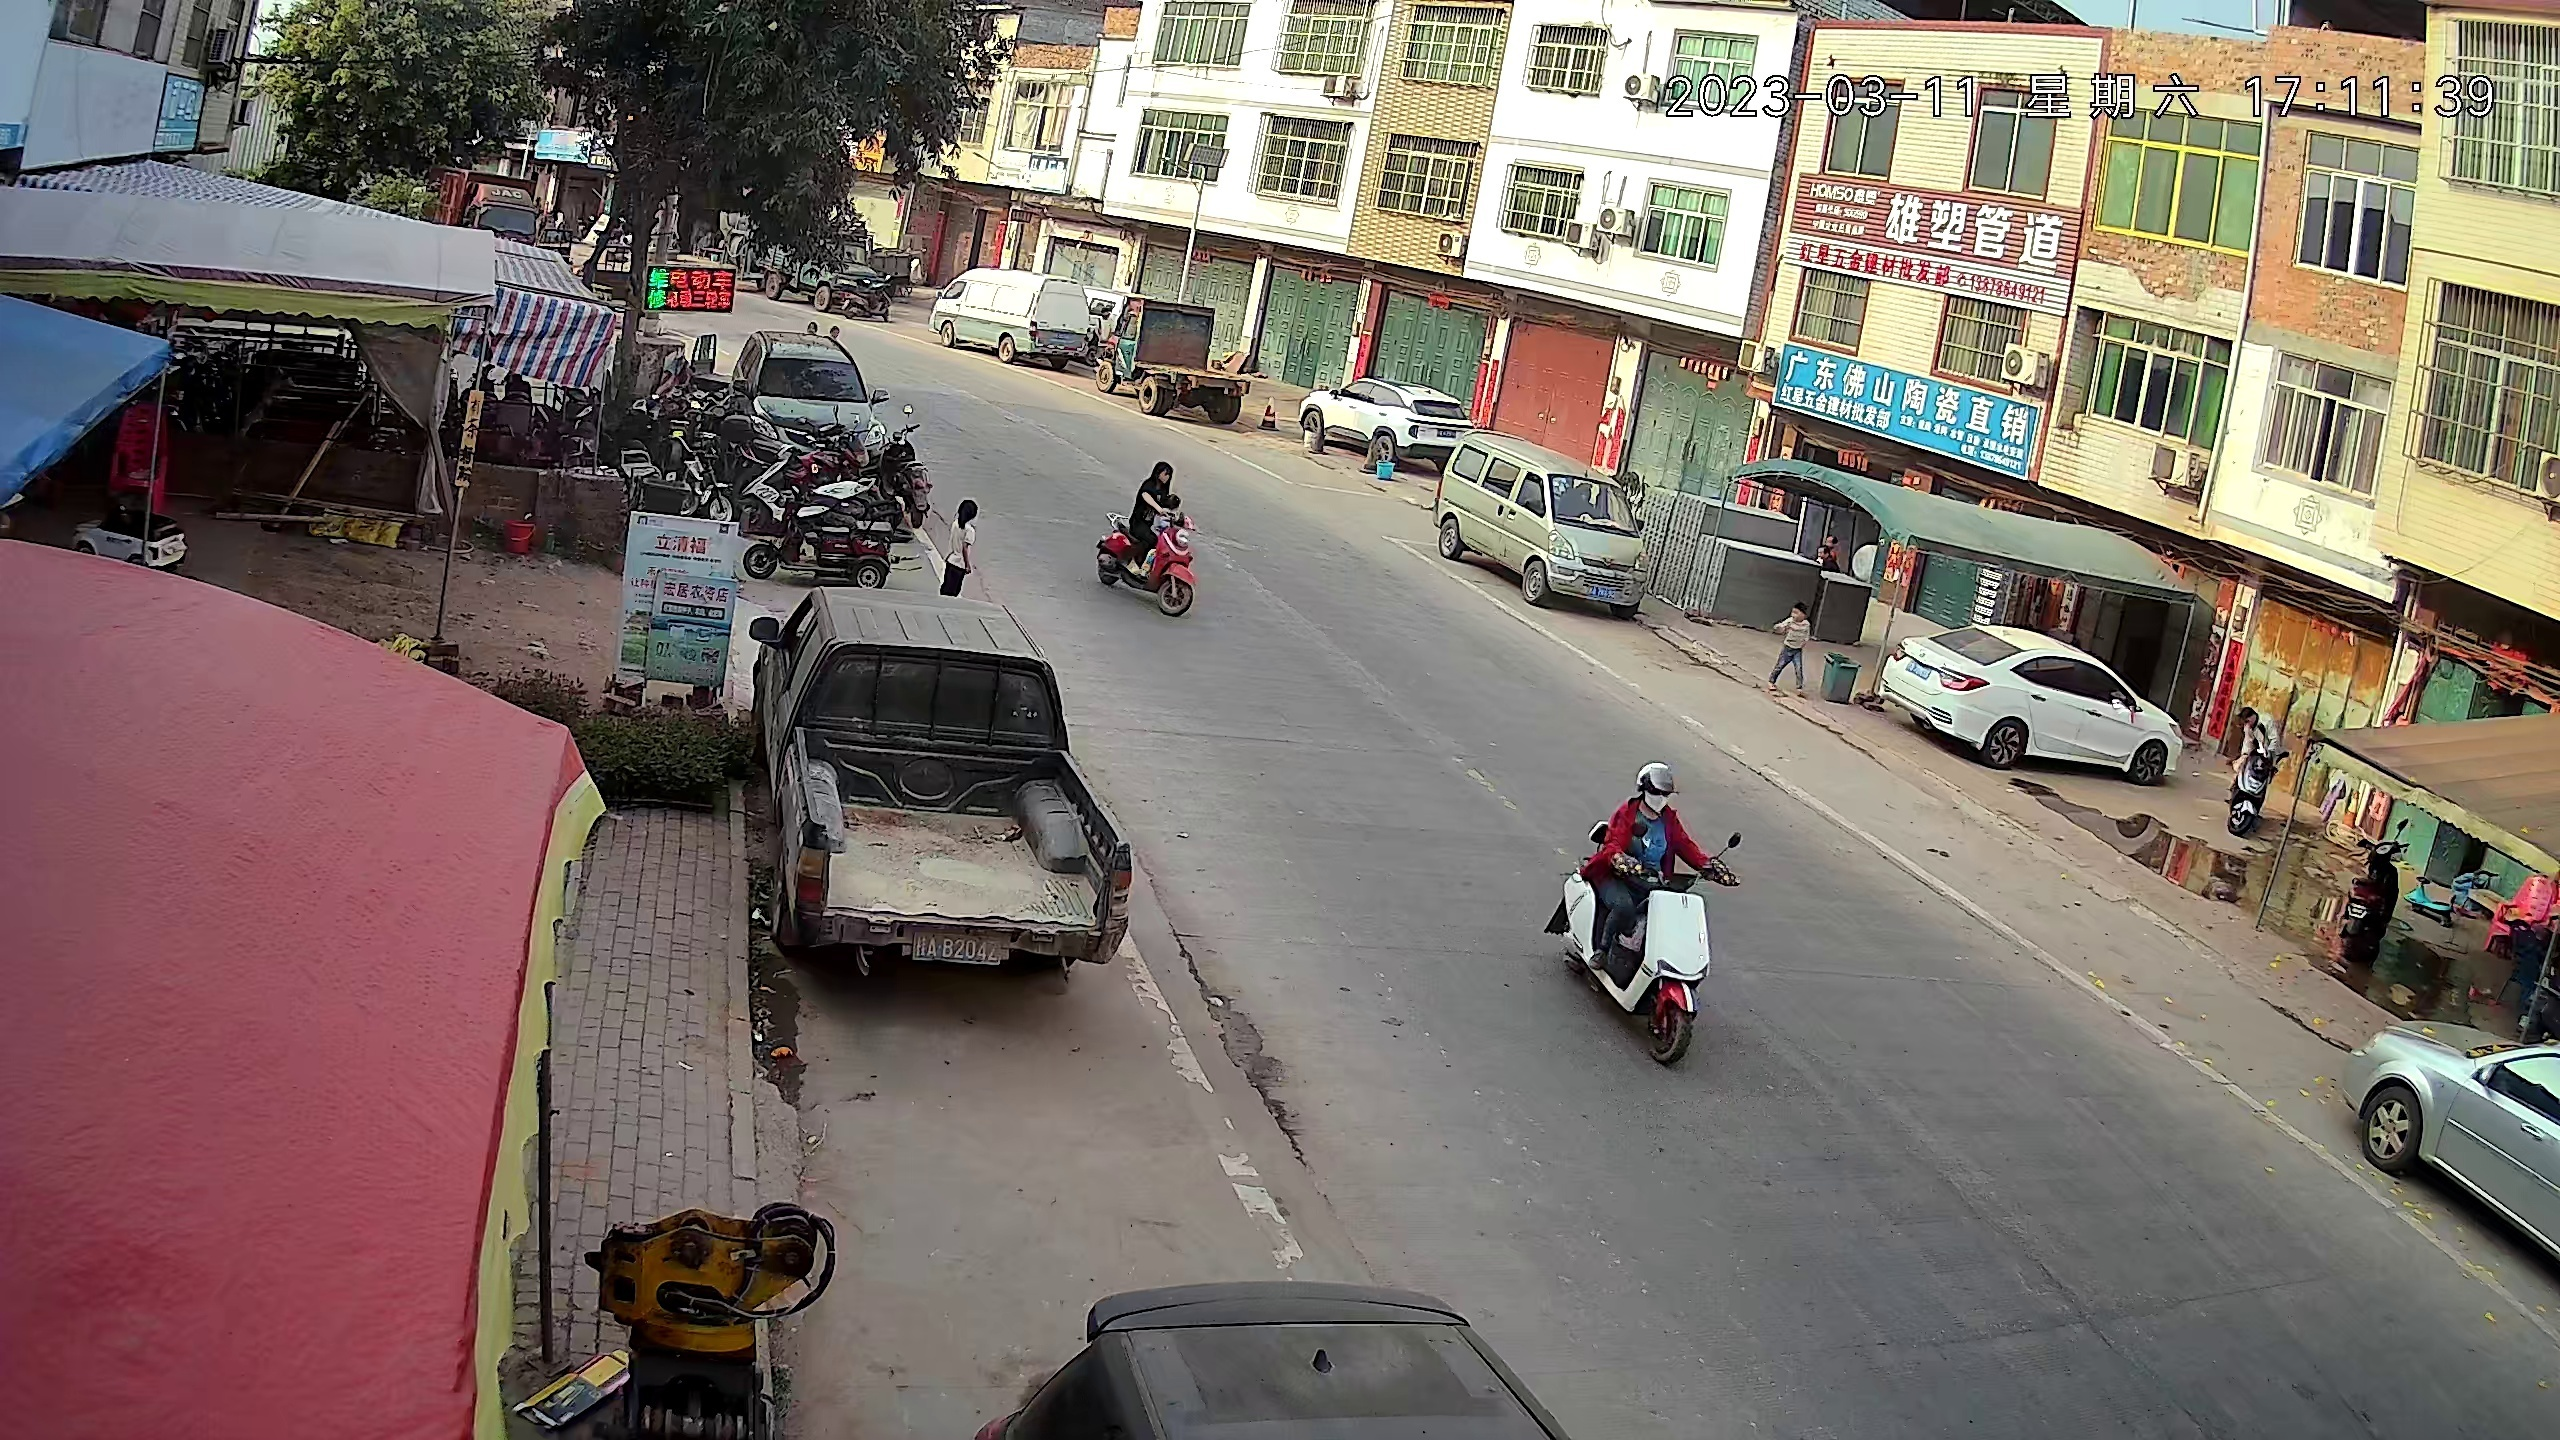head: (2229, 703, 2282, 745)
motorcycle: (1552, 755, 1730, 1074), (1098, 452, 1199, 620), (758, 497, 895, 584), (628, 388, 715, 505), (2348, 819, 2410, 970), (877, 413, 930, 530), (2237, 742, 2288, 838), (842, 278, 892, 327)
person: (1599, 759, 1690, 898), (929, 495, 982, 605), (1767, 600, 1812, 705), (1129, 465, 1175, 513)
pickup: (748, 582, 1132, 985)
sedan: (973, 1282, 1575, 1440), (1882, 614, 2189, 794), (2352, 1010, 2560, 1254)
suv: (1300, 369, 1462, 464), (742, 332, 872, 438)
tricycle: (1099, 294, 1247, 427)
truck: (929, 259, 1099, 378), (430, 159, 547, 253), (765, 227, 884, 318)
van: (1437, 428, 1654, 620)
